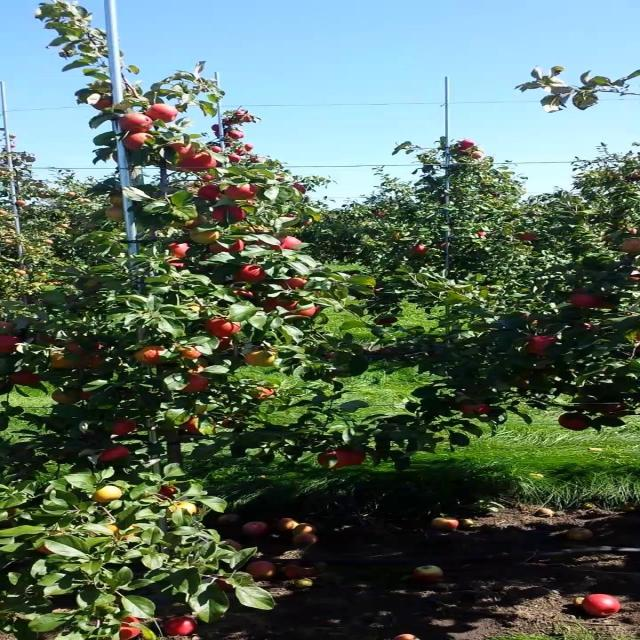apple: (184, 416, 235, 436), (63, 340, 105, 364), (269, 300, 320, 318), (70, 344, 107, 368), (326, 448, 370, 468), (177, 152, 219, 172), (262, 300, 306, 317), (120, 112, 156, 132), (234, 264, 270, 284), (184, 416, 220, 436), (184, 152, 219, 172), (525, 336, 558, 357), (106, 524, 142, 543), (284, 300, 320, 318), (148, 104, 178, 124), (205, 320, 242, 336), (269, 236, 306, 252), (340, 448, 370, 467), (92, 488, 126, 504), (99, 448, 132, 464), (134, 348, 165, 365), (212, 208, 249, 222), (227, 184, 258, 200), (13, 372, 43, 388), (184, 376, 212, 393), (319, 452, 347, 469), (127, 136, 156, 152), (248, 352, 277, 368), (561, 416, 590, 432), (262, 300, 297, 313), (170, 144, 196, 161), (120, 620, 142, 640), (113, 420, 140, 436), (212, 240, 242, 254), (198, 184, 222, 201), (220, 240, 247, 254), (191, 232, 220, 245), (49, 392, 78, 405), (276, 280, 309, 291), (461, 404, 491, 416), (49, 356, 76, 369), (604, 404, 629, 418), (170, 504, 199, 516), (6, 336, 25, 354), (170, 244, 192, 259), (156, 484, 178, 499), (177, 348, 204, 360), (177, 220, 204, 232), (212, 240, 233, 254), (255, 388, 277, 401), (106, 208, 126, 222), (84, 356, 107, 368), (575, 296, 597, 308), (92, 100, 114, 112), (35, 544, 57, 556), (518, 312, 540, 324), (376, 316, 398, 327), (596, 300, 619, 310), (625, 240, 639, 254), (518, 376, 532, 390), (191, 364, 208, 375), (35, 336, 57, 344), (170, 260, 187, 270), (220, 340, 235, 351), (6, 508, 21, 519), (234, 292, 256, 299), (77, 392, 94, 401), (113, 196, 126, 207), (6, 320, 16, 332), (582, 324, 597, 332), (198, 176, 217, 182), (326, 352, 336, 360)
